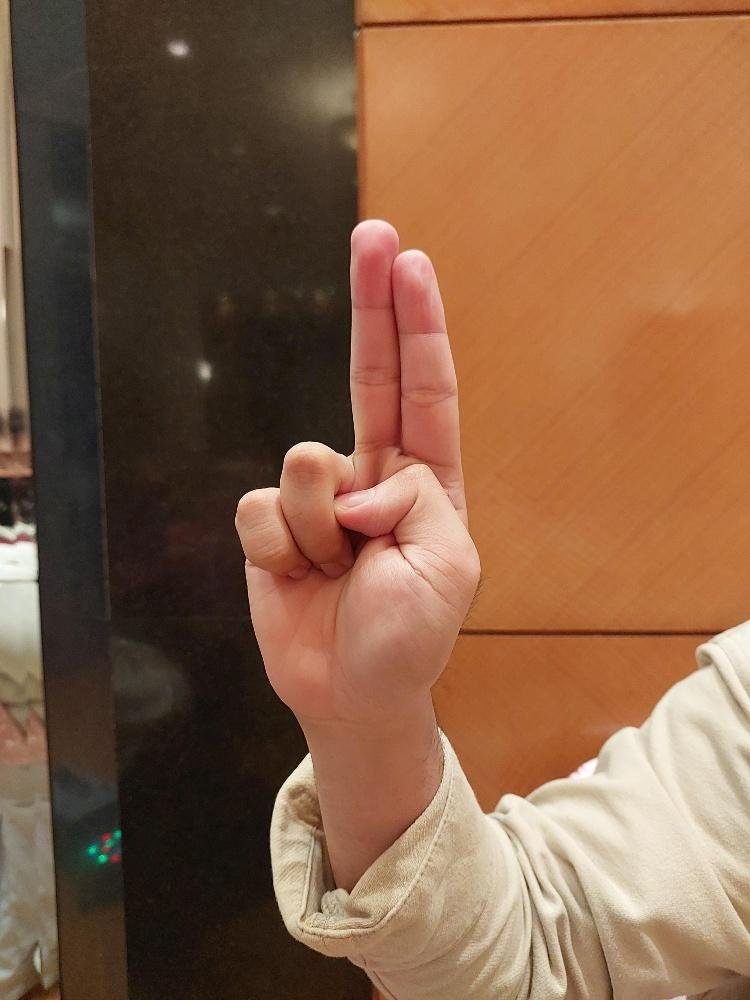u: (229, 214, 486, 728)
